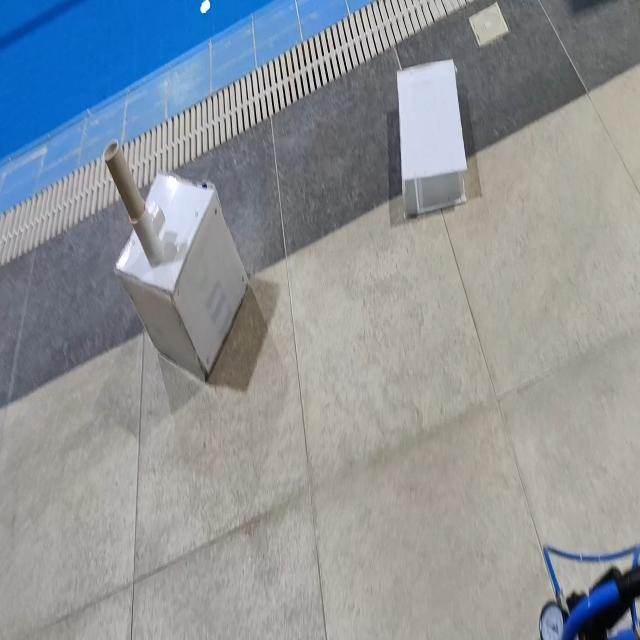Cube: (113, 170, 249, 383)
Cuboid: (395, 57, 468, 217)
